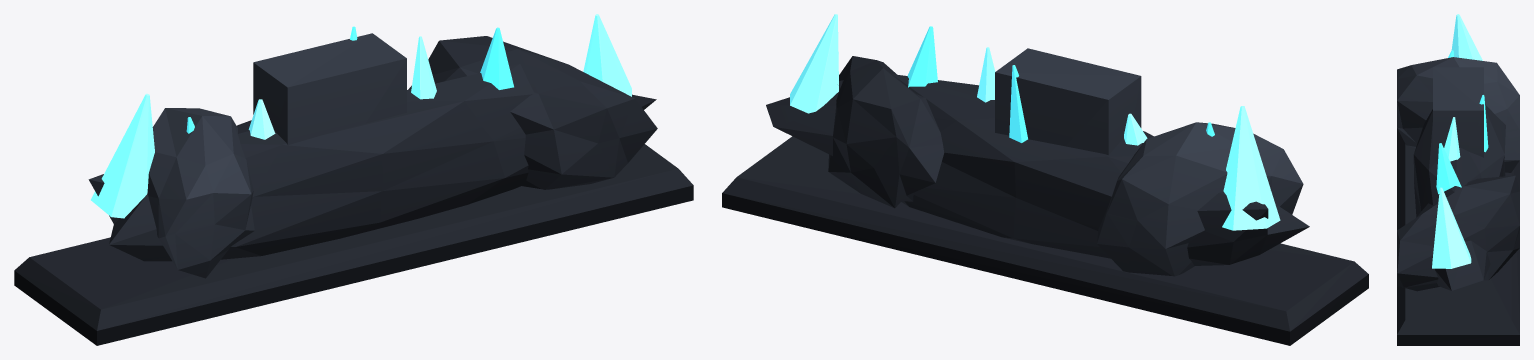
Rendered from crystal-rock-fence.glb.
3 renders of one model, left to right at view 1: azimuth 30°, elevation 25°; view 2: azimuth 150°, elevation 25°; view 3: azimuth 270°, elevation 25°, orthographic. The views are drawn at different scales.
Size of the model in its own units: 5 by 1.6 by 1.2.
